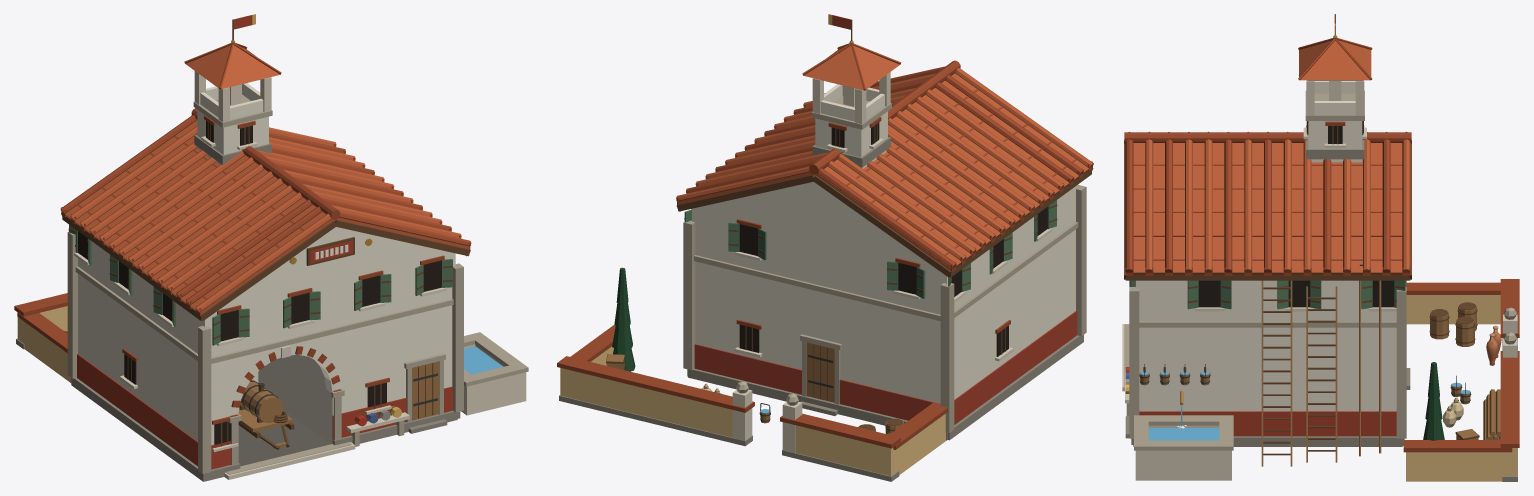
The model's file is Feuerwache.fbx.
The picture shows the model from 3 angles, left to right: view 1: azimuth 30°, elevation 25°; view 2: azimuth 150°, elevation 25°; view 3: azimuth 270°, elevation 25°; orthographic projection. The views are drawn at different scales.
Visible parts, largest first — view 1: Feuerwache_0; view 2: Feuerwache_0; view 3: Feuerwache_0.
Part boxes in pixels (left/top/right/bottom): Feuerwache_0: left=14, top=14, right=528, bottom=481; Feuerwache_0: left=557, top=14, right=1093, bottom=481; Feuerwache_0: left=1122, top=14, right=1519, bottom=481.
Size of the model in its own units: 3.57 by 3.63 by 3.54.
